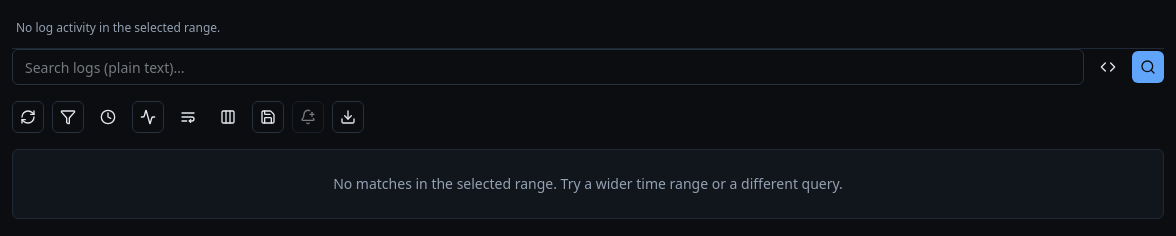
LogsExplorerPage › sidebar renders rows from mocked services (desktop)
Expected: the field with test id "logs-search-input" is shown, [12,49,1084,85]
Note: Sidebar is CLOSED by default — open it via the filter toggle button.
What coordinates should you click on to do the following:
click the button with test id "logs-filter-toggle"
I would click on:
 (68, 117)
Its box is [52,101,84,133].
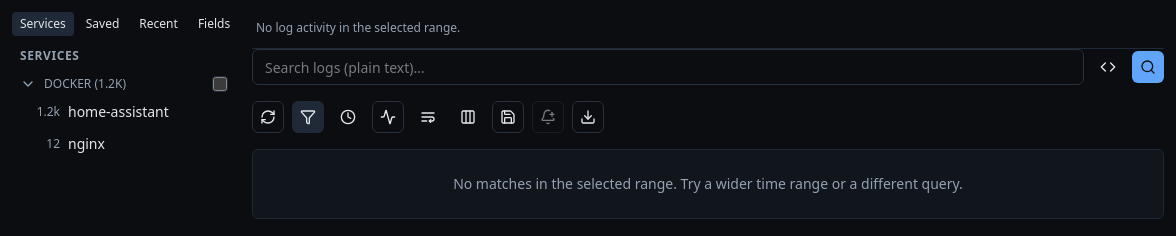
Expected: the number of buttons with test id "stream-picker-row" is 2, [12,96,236,128]; [12,128,236,160]
Expected: the text "1.2k" is shown, [37,103,60,120]
